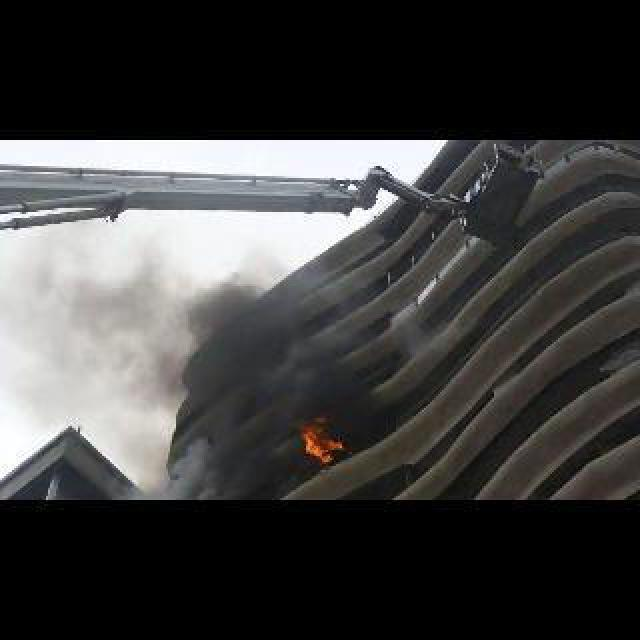smoke: (42, 256, 354, 406), (122, 422, 240, 498)
zfire: (282, 410, 358, 468)
